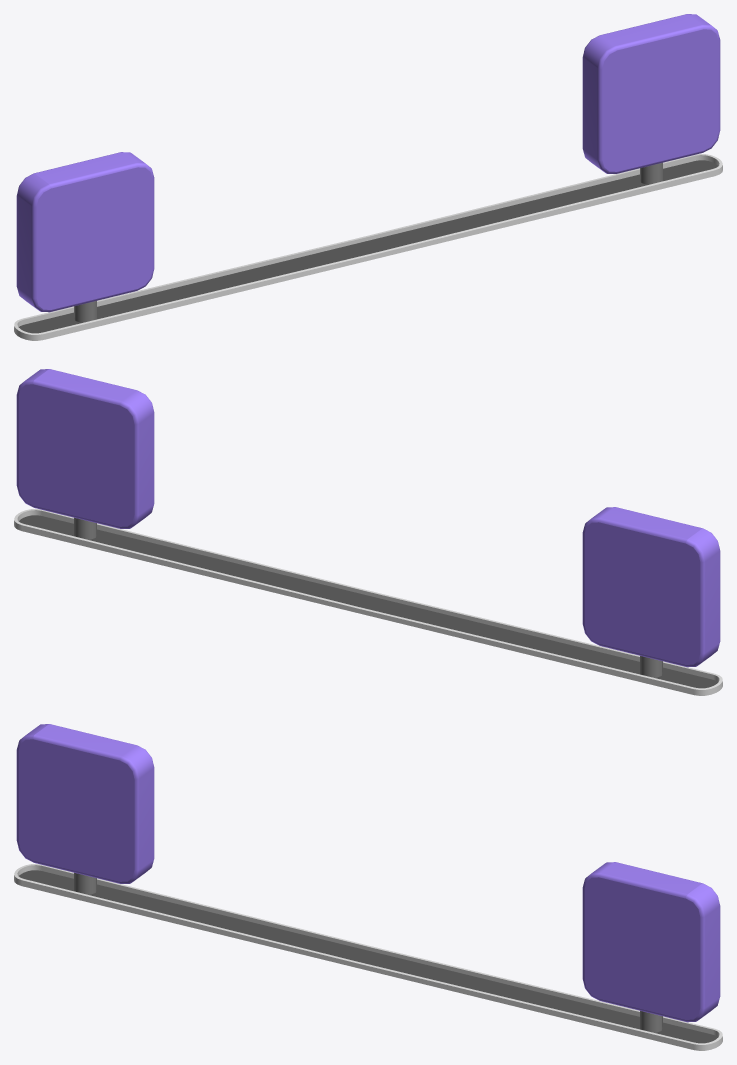
File: Obstacle_56.fbx
3 renders of one model, top to bottom at view 1: azimuth 30°, elevation 25°; view 2: azimuth 150°, elevation 25°; view 3: azimuth 330°, elevation 25°, orthographic.
Parts seen in each view (by area): view 1: Bia_2, Bia_1, De; view 2: Bia_2, Bia_1, De; view 3: Bia_1, Bia_2, De.
Part boxes in pixels (x1=…): Bia_2: x1=16, y1=152, x2=154, y2=322; Bia_1: x1=582, y1=14, x2=720, y2=184; De: x1=14, y1=154, x2=722, y2=340; Bia_2: x1=582, y1=507, x2=720, y2=677; Bia_1: x1=16, y1=369, x2=154, y2=539; De: x1=14, y1=509, x2=722, y2=695; Bia_1: x1=582, y1=862, x2=720, y2=1032; Bia_2: x1=16, y1=724, x2=154, y2=894; De: x1=14, y1=864, x2=722, y2=1050.
Size of the model in its own units: 9.92 by 2.04 by 0.5226.
